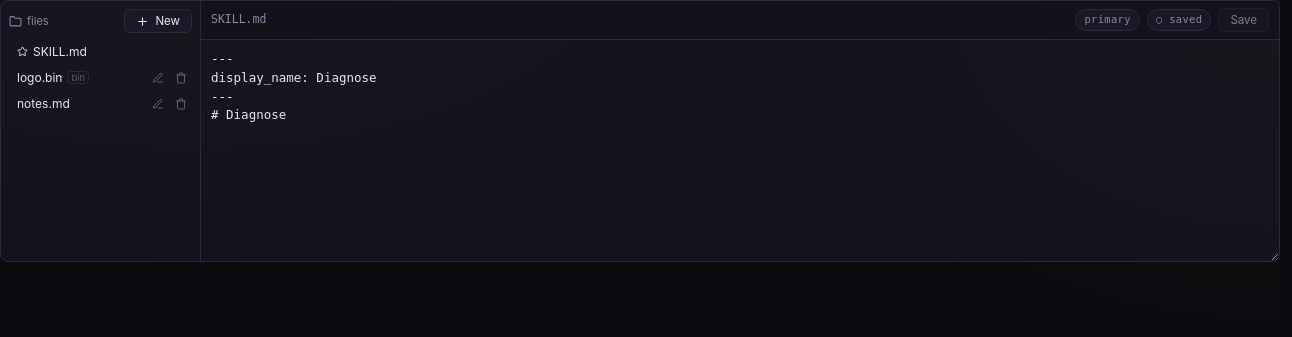
WorkingFileEditor — binary + route-local errors (risk-a) › a traversal file name surfaces a route-local inline message, never the shell
Click the button "New". click: (158, 21)
box: [124,9,192,33]
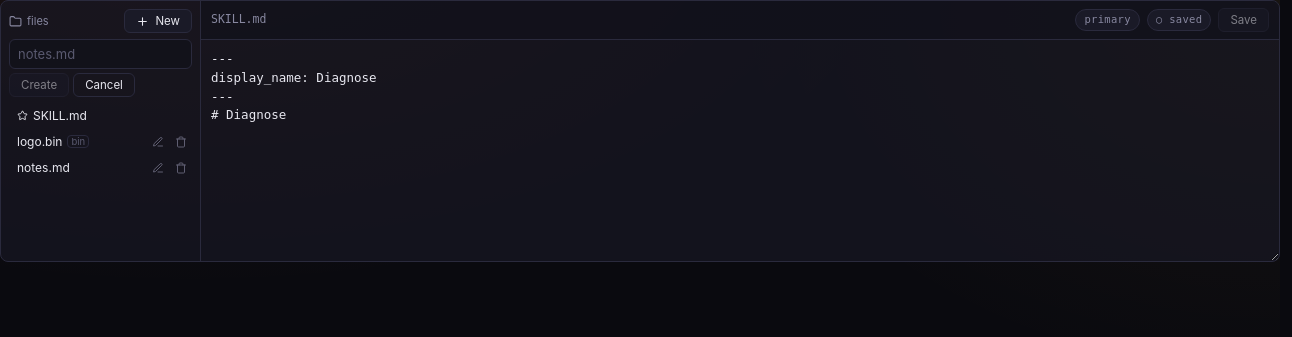
Type "../escape.md" into the field named "new file path". click: (100, 54)
box: [9,39,192,69]
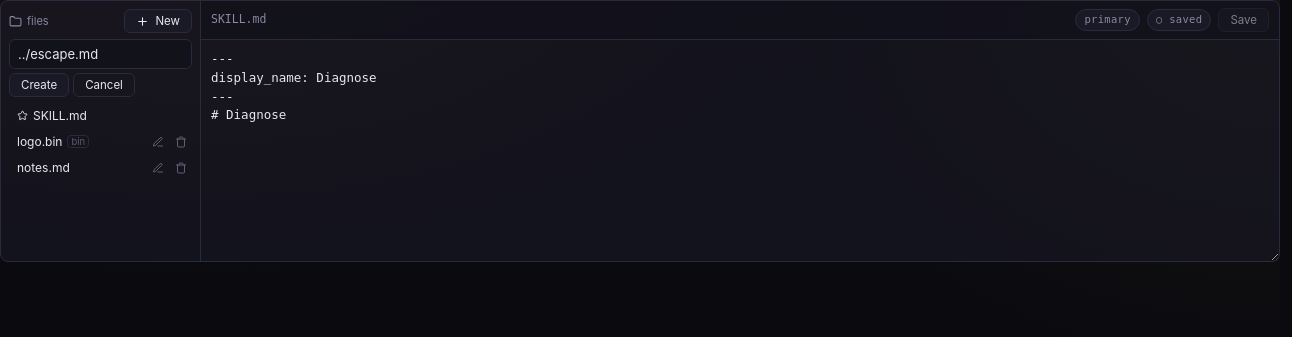
Click the button "Create". click: (39, 85)
box: [9,73,69,97]
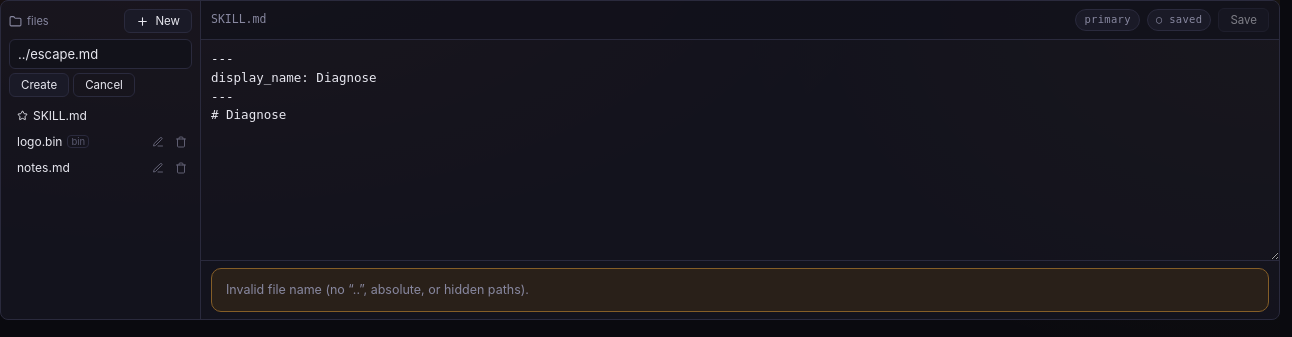
Expected: the message shows "Invalid file name", [226,282,529,297]
